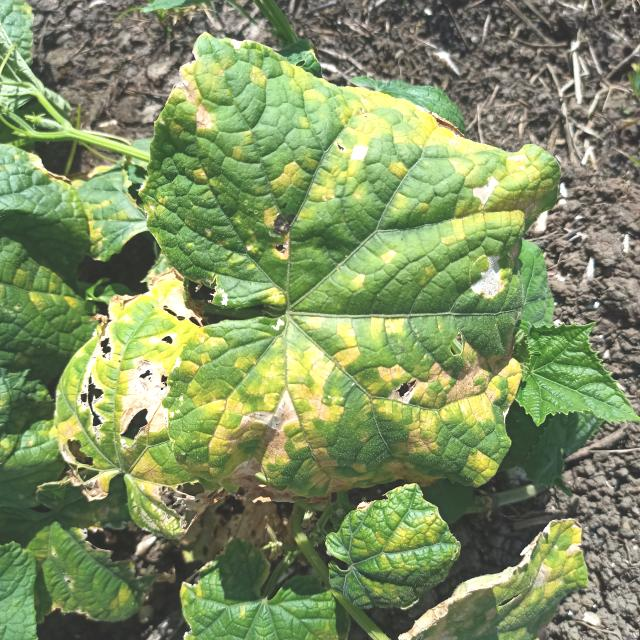disease_cucumber: (155, 34, 550, 495), (51, 284, 236, 536)
